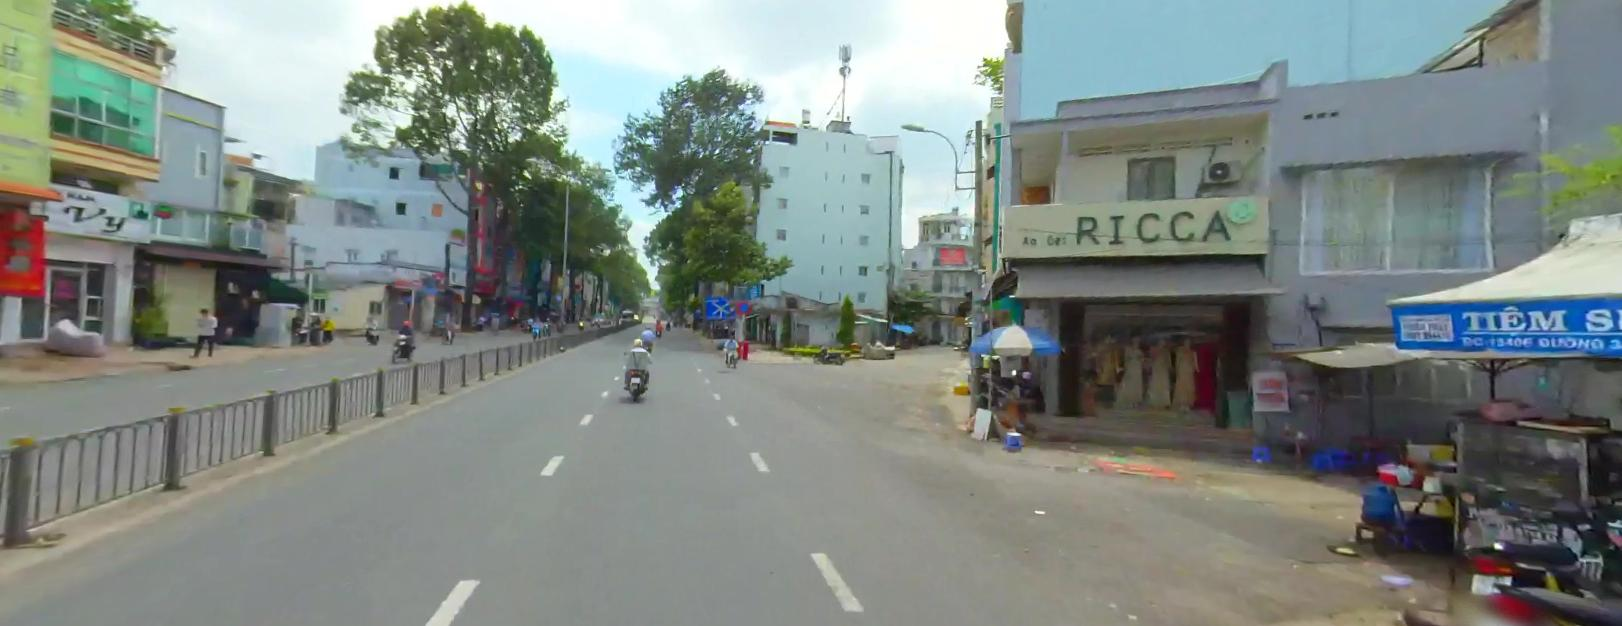Cam dung va do: (735, 300, 750, 312), (737, 300, 750, 312)
